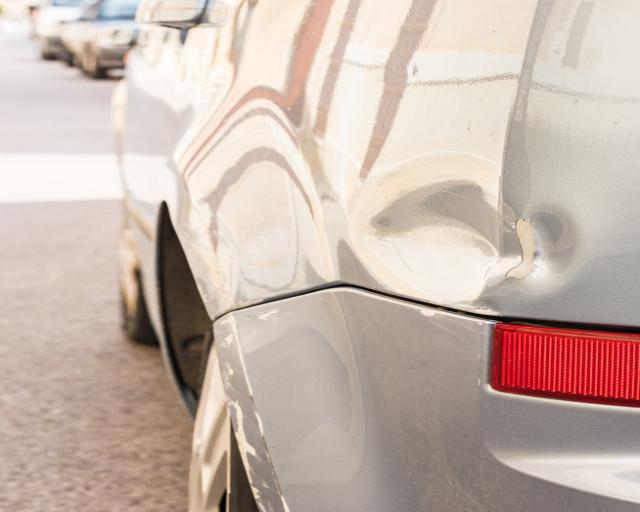dent: (351, 176, 575, 315)
scratch: (217, 311, 289, 512)
